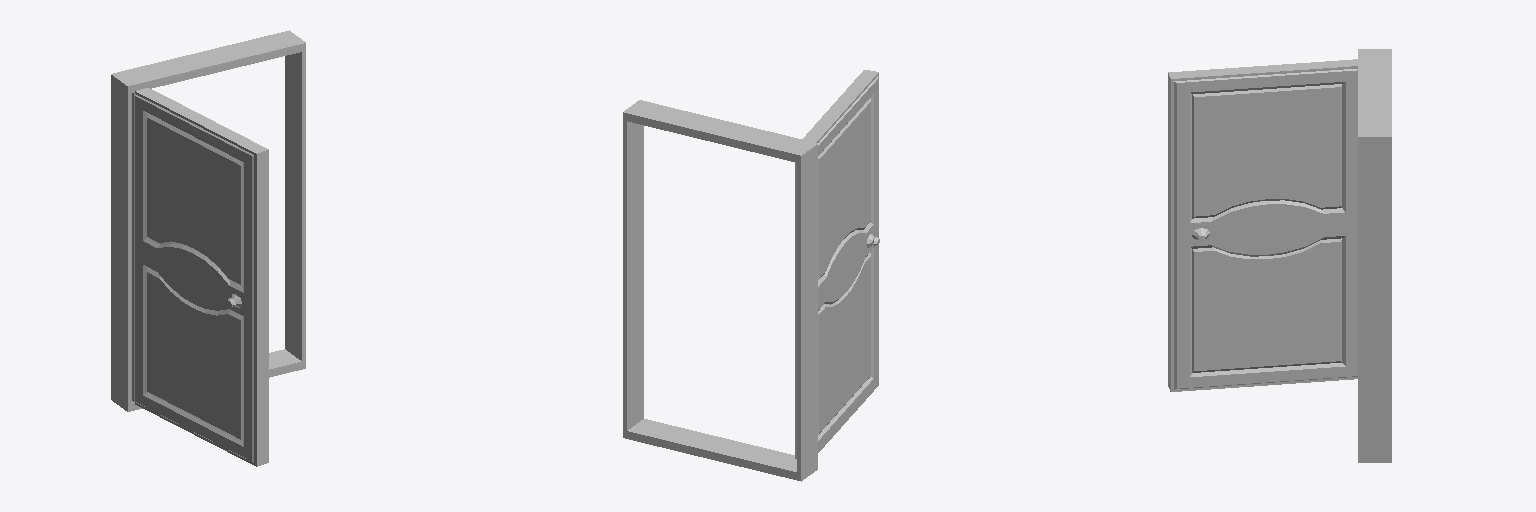
Rendered from drzwiok_000010.obj.
3 views of the same model, side by side, from view 1: azimuth 30°, elevation 25°; view 2: azimuth 150°, elevation 25°; view 3: azimuth 270°, elevation 25° (orthographic).
Visible parts, largest first — view 1: Door_4.001_Cube.001, Kostka; view 2: Kostka, Door_4.001_Cube.001; view 3: Door_4.001_Cube.001, Kostka.
Part boxes in pixels (left/top/right/bottom): Door_4.001_Cube.001: left=132, top=88, right=268, bottom=466; Kostka: left=111, top=30, right=305, bottom=411; Kostka: left=623, top=100, right=817, bottom=481; Door_4.001_Cube.001: left=795, top=70, right=879, bottom=458; Door_4.001_Cube.001: left=1168, top=59, right=1357, bottom=391; Kostka: left=1358, top=49, right=1391, bottom=462.
Bounding box in the file's own units: 0.7416 × 1.29 × 0.8036.